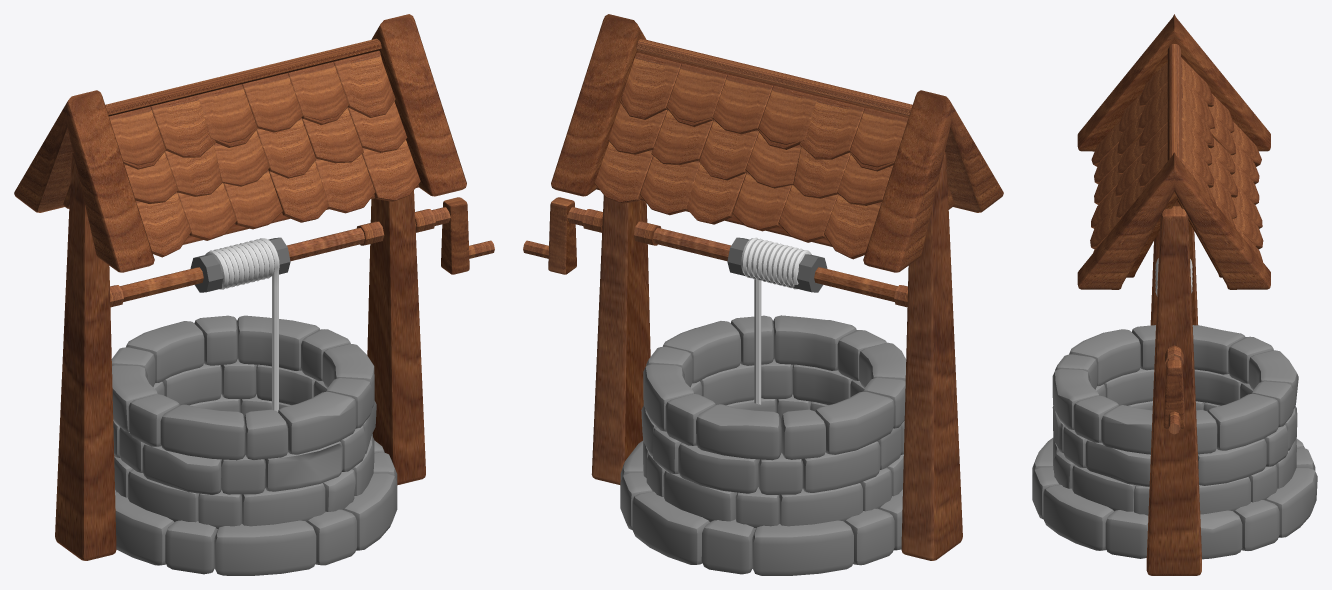
Rendered from _evel1_Well.fbx.
The picture shows the model from 3 angles, left to right: view 1: azimuth 30°, elevation 25°; view 2: azimuth 150°, elevation 25°; view 3: azimuth 270°, elevation 25°; orthographic projection. The views are drawn at different scales.
Visible parts, largest first — view 1: polySurface209; view 2: polySurface209; view 3: polySurface209.
Part boxes in pixels (x1,y1,x2,y2): polySurface209: (14,14,494,575); polySurface209: (523,14,1003,575); polySurface209: (1032,14,1317,575).
Size of the model in its own units: 93.36 by 96.05 by 59.79.
